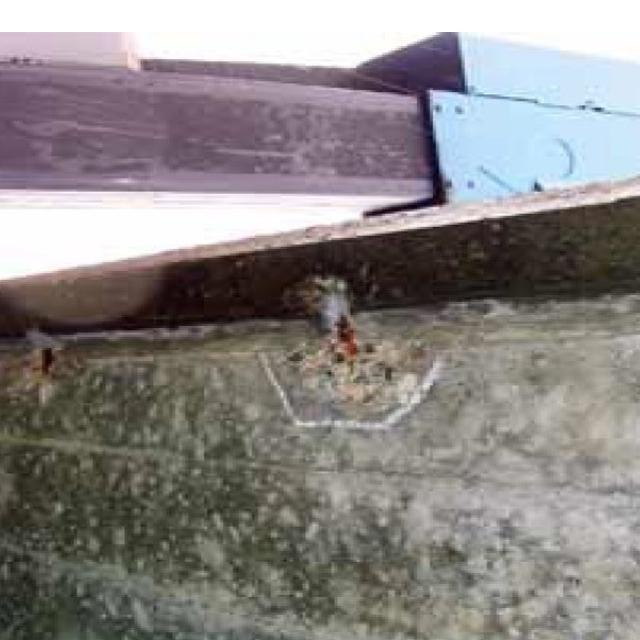spalling: (292, 321, 454, 406)
